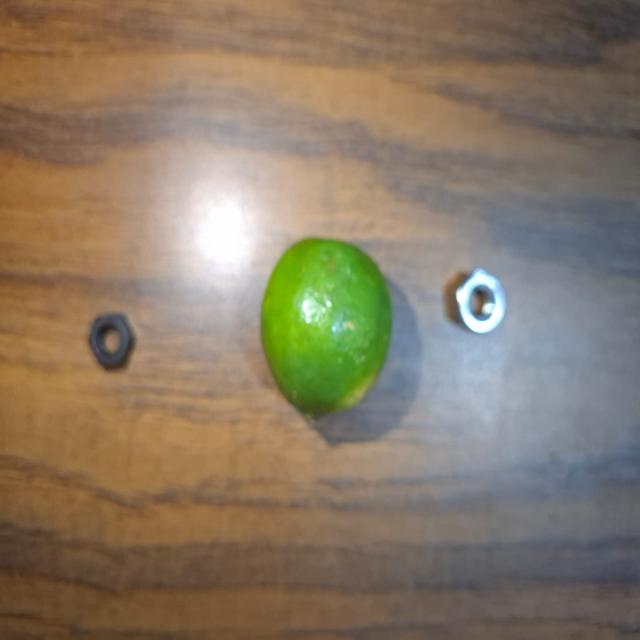limon: (256, 232, 399, 423)
milimetrico: (85, 309, 143, 368)
tuerca: (454, 268, 510, 334)
